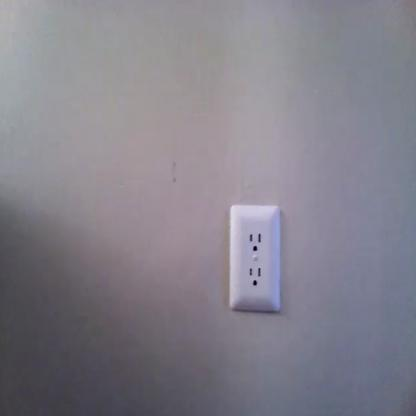OUTLET: (228, 204, 281, 314)
